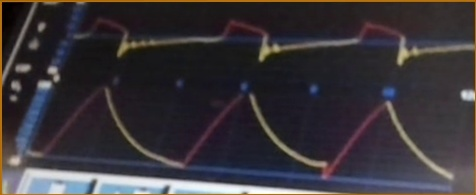Accumulation Flow: (75, 12, 471, 65)
Volume: (27, 88, 453, 182)
